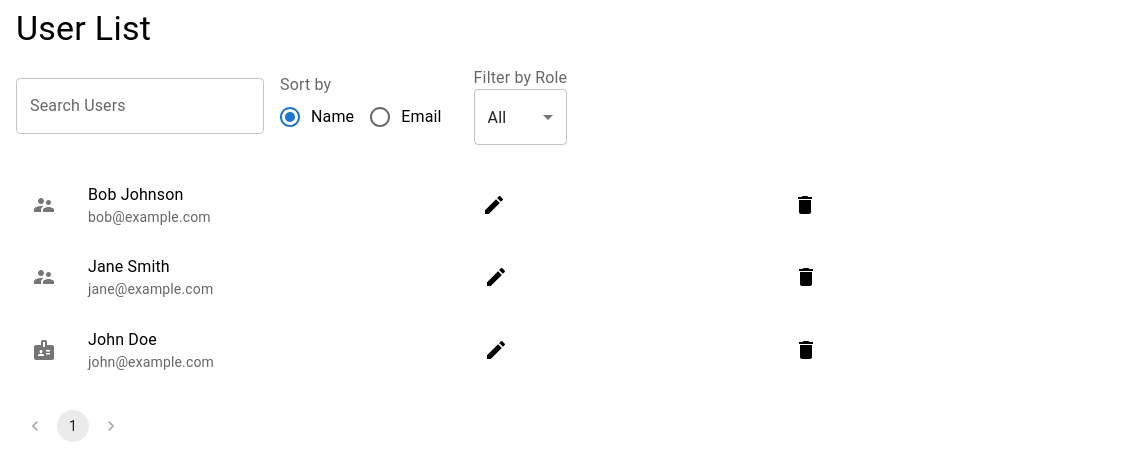
Scenario: UserEmployeeListSchwer › displays message when no users match the search
Expected: the text "John Doe" is shown, [88, 330, 157, 348]
Type "Nonexistent User" into the field labelled "Search Users". click: (140, 106)
box: [16, 78, 264, 134]
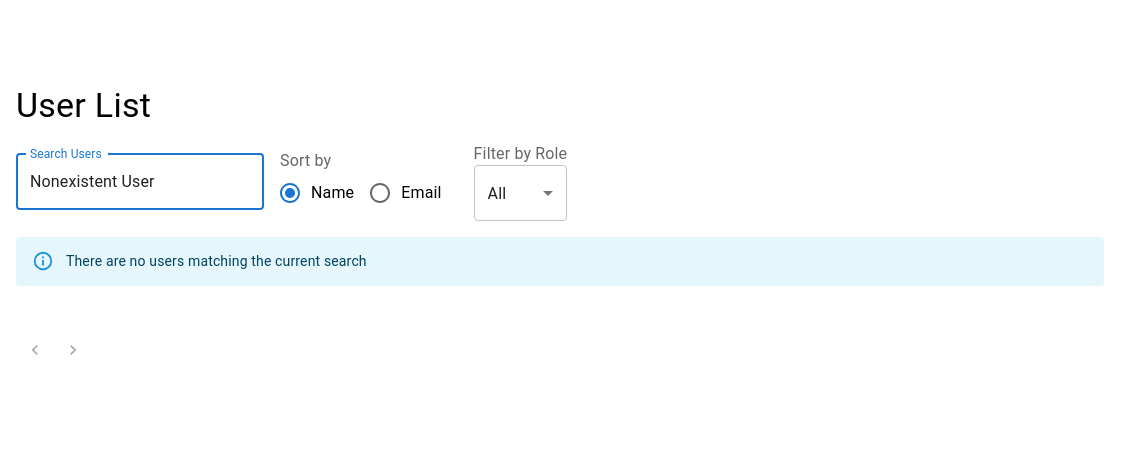
Expected: the text "There are no users matching the current search" is shown, [66, 254, 367, 270]
